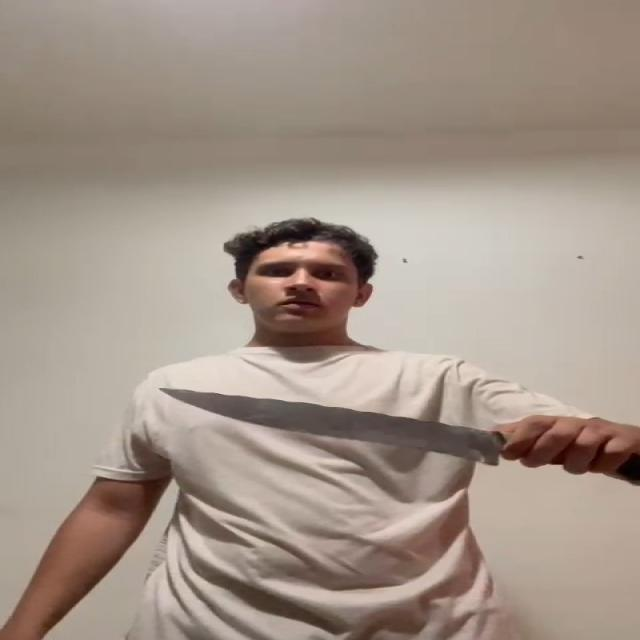knife: (156, 384, 504, 470)
